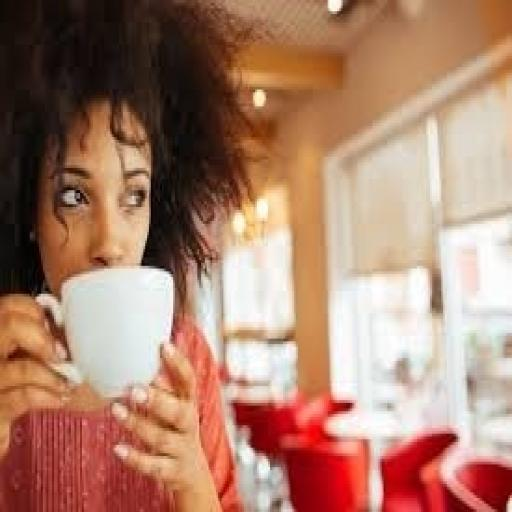drinking: (34, 263, 175, 400)
